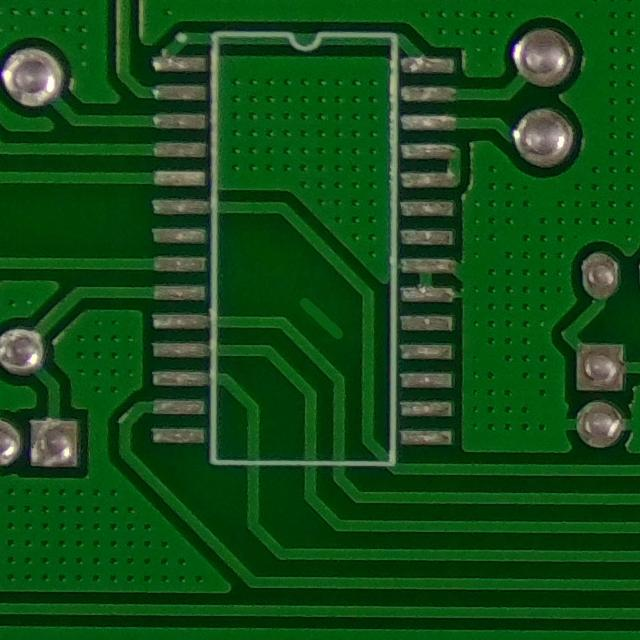spurious_copper: (291, 292, 349, 348)
